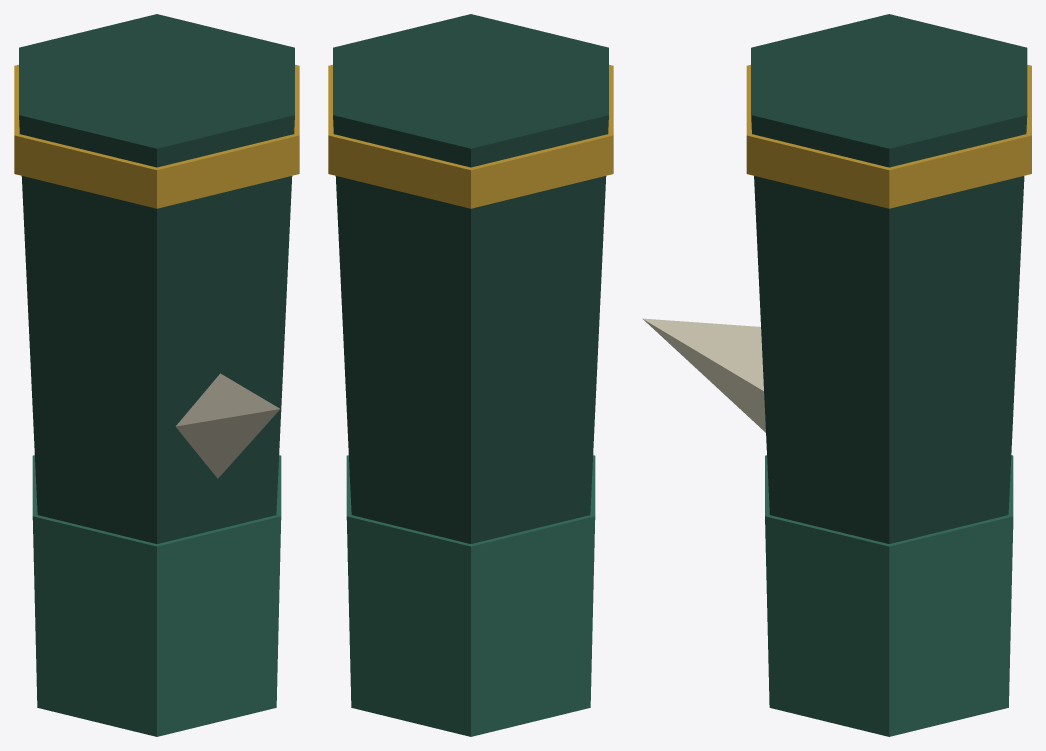
Rendered from dragon_legguards.glb.
3 views of the same model, side by side, from view 1: azimuth 30°, elevation 25°; view 2: azimuth 150°, elevation 25°; view 3: azimuth 270°, elevation 25° (orthographic).
Visible parts, largest first — view 1: dragon_legguards; view 2: dragon_legguards; view 3: dragon_legguards.
Boxes of the visible parts, box(x1,y1,x2,y2) form: dragon_legguards: box(14, 14, 299, 736); dragon_legguards: box(328, 14, 613, 736); dragon_legguards: box(642, 14, 1031, 736).
Size of the model in its own units: 0.31 by 0.62 by 0.3667.
